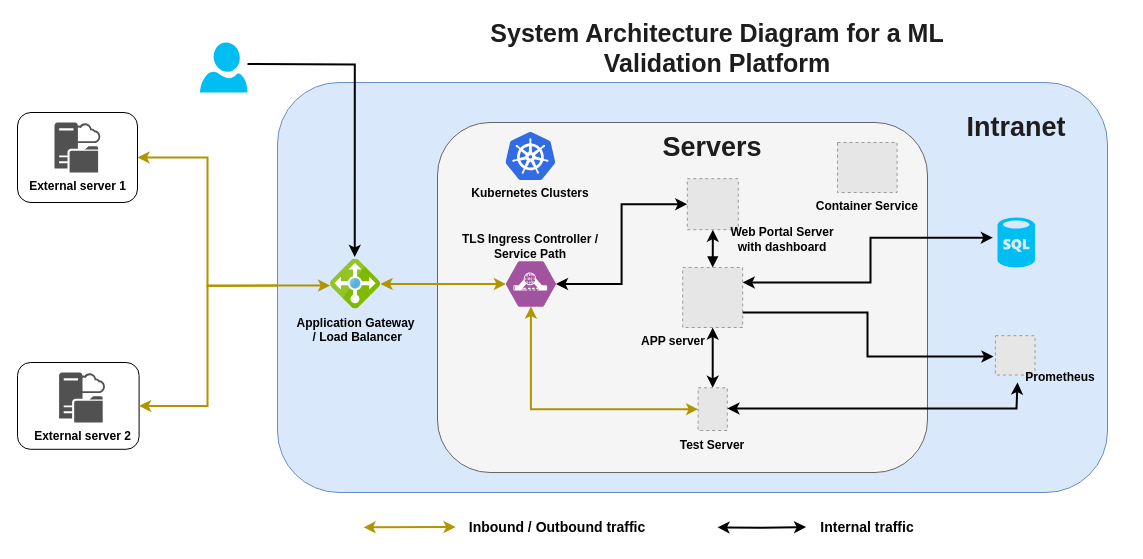
Some shapes in this 1143 by 559 pixel diagram are drawn without their labels. Grey dashed boxes stand in for pictures. The centre of each missing label's shape, as x and y in pixels:
"Fully Managed Database [PostgreSQL]" goes at point (1015, 242).
"System user" goes at point (223, 67).
